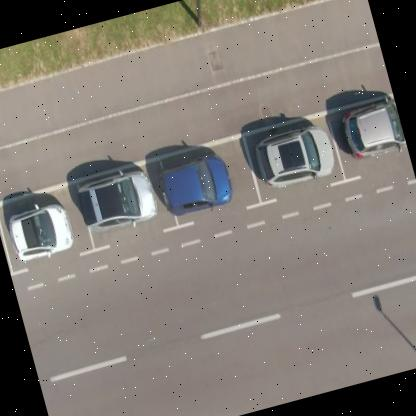Car: (72, 165, 160, 235), (154, 148, 235, 219), (252, 128, 337, 190), (336, 98, 408, 166), (4, 199, 76, 265)
